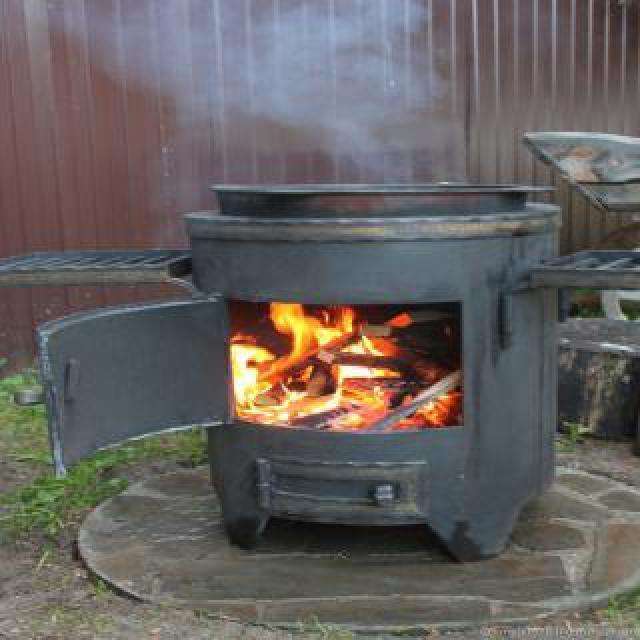Fire: (214, 282, 458, 436)
Smoke: (69, 13, 460, 181)
